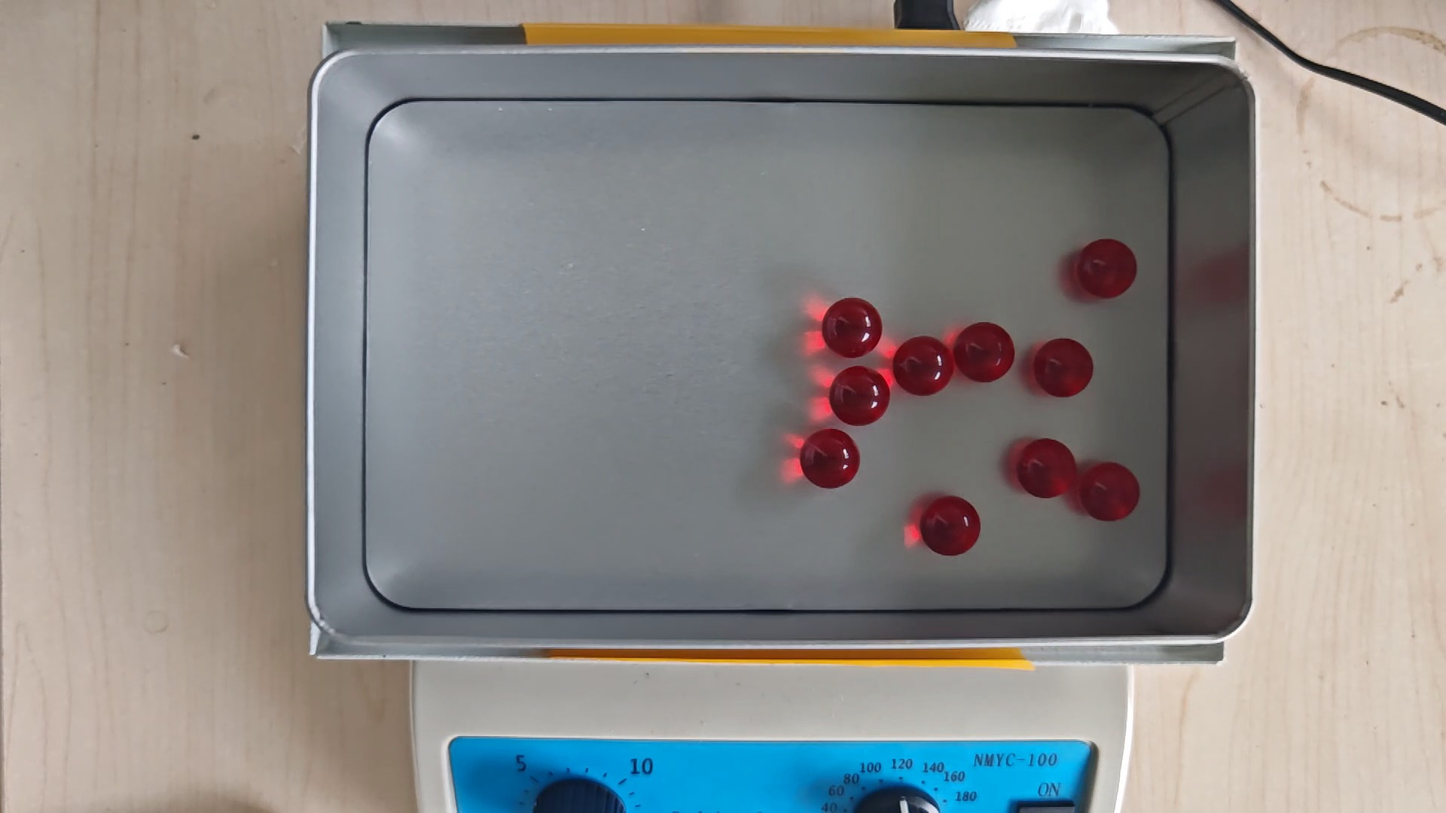ball: (1033, 337, 1094, 399), (920, 495, 981, 557), (1016, 438, 1078, 499), (801, 428, 861, 490), (893, 335, 953, 397), (1080, 461, 1140, 523), (1077, 238, 1137, 300), (830, 365, 889, 428), (823, 296, 882, 358), (956, 321, 1014, 383)
container: (363, 96, 1176, 605)
